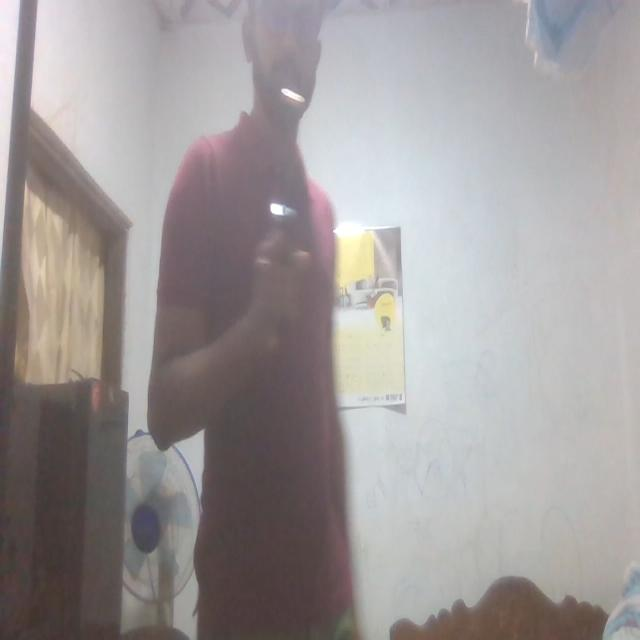Person: (150, 0, 368, 640)
